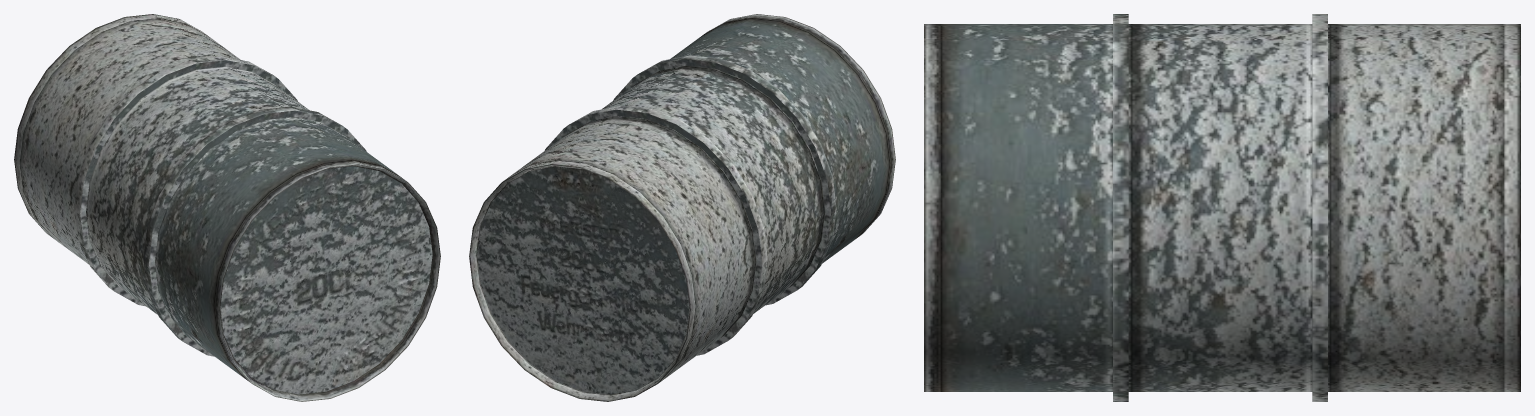
File: prop_barrel_green_snow.glb
3 renders of one model, left to right at view 1: azimuth 30°, elevation 25°; view 2: azimuth 150°, elevation 25°; view 3: azimuth 270°, elevation 25°, orthographic. The views are drawn at different scales.
Bounding box in the file's own units: 28.93 × 28.93 × 44.32.
1 material, 1 textured.
